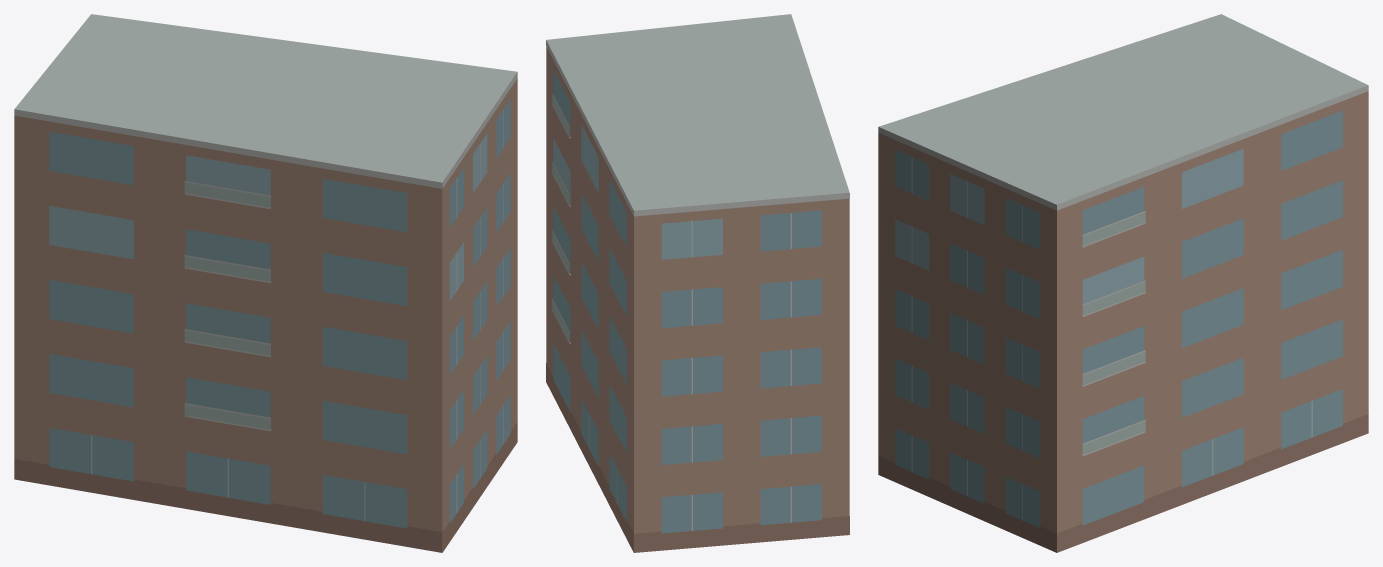
The model's file is survey-upis-32904390.glb.
3 views of the same model, side by side, from view 1: azimuth 30°, elevation 25°; view 2: azimuth 150°, elevation 25°; view 3: azimuth 270°, elevation 25° (orthographic). The views are drawn at different scales.
Visible parts, largest first — view 1: survey-upis-32904390.tmp; view 2: survey-upis-32904390.tmp; view 3: survey-upis-32904390.tmp.
Part boxes in pixels (left/top/right/bottom): survey-upis-32904390.tmp: left=14, top=14, right=517, bottom=552; survey-upis-32904390.tmp: left=546, top=14, right=849, bottom=552; survey-upis-32904390.tmp: left=878, top=14, right=1368, bottom=552.
Size of the model in its own units: 17.06 by 14.5 by 18.51.
